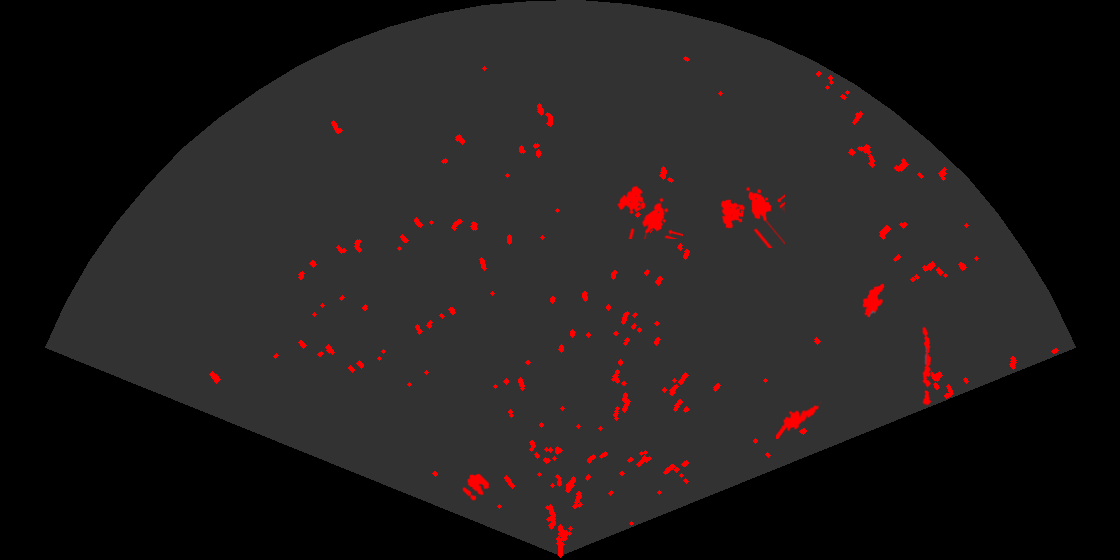AUV: (861, 282, 886, 319)
ball: (461, 472, 491, 502)
cage: (719, 185, 785, 248), (615, 184, 683, 239)
chain: (921, 326, 933, 406)
frogman: (776, 399, 822, 439)
